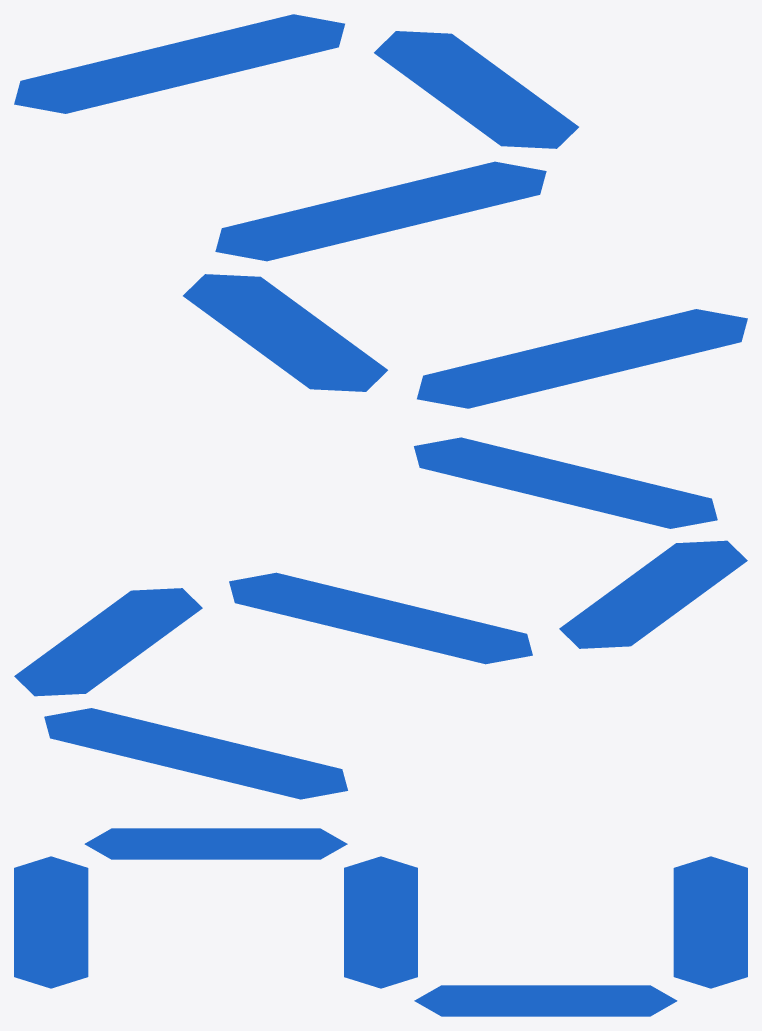
3 views of the same model, one above another, from view 1: azimuth 30°, elevation 25°; view 2: azimuth 150°, elevation 25°; view 3: azimuth 270°, elevation 25° (orthographic). The views are drawn at different scales.
Size of what is drawn, in the model's own units: 1.62 by 0 by 2.67.
Materials: 1 (1 with a texture image).
